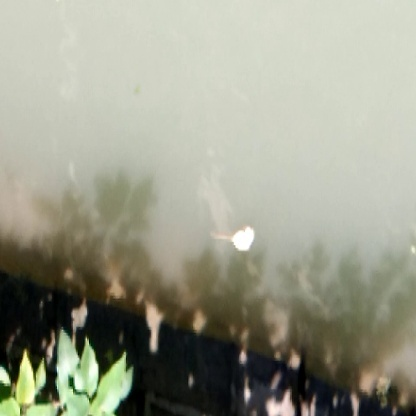leaf: (77, 349, 135, 416), (205, 213, 271, 264)
